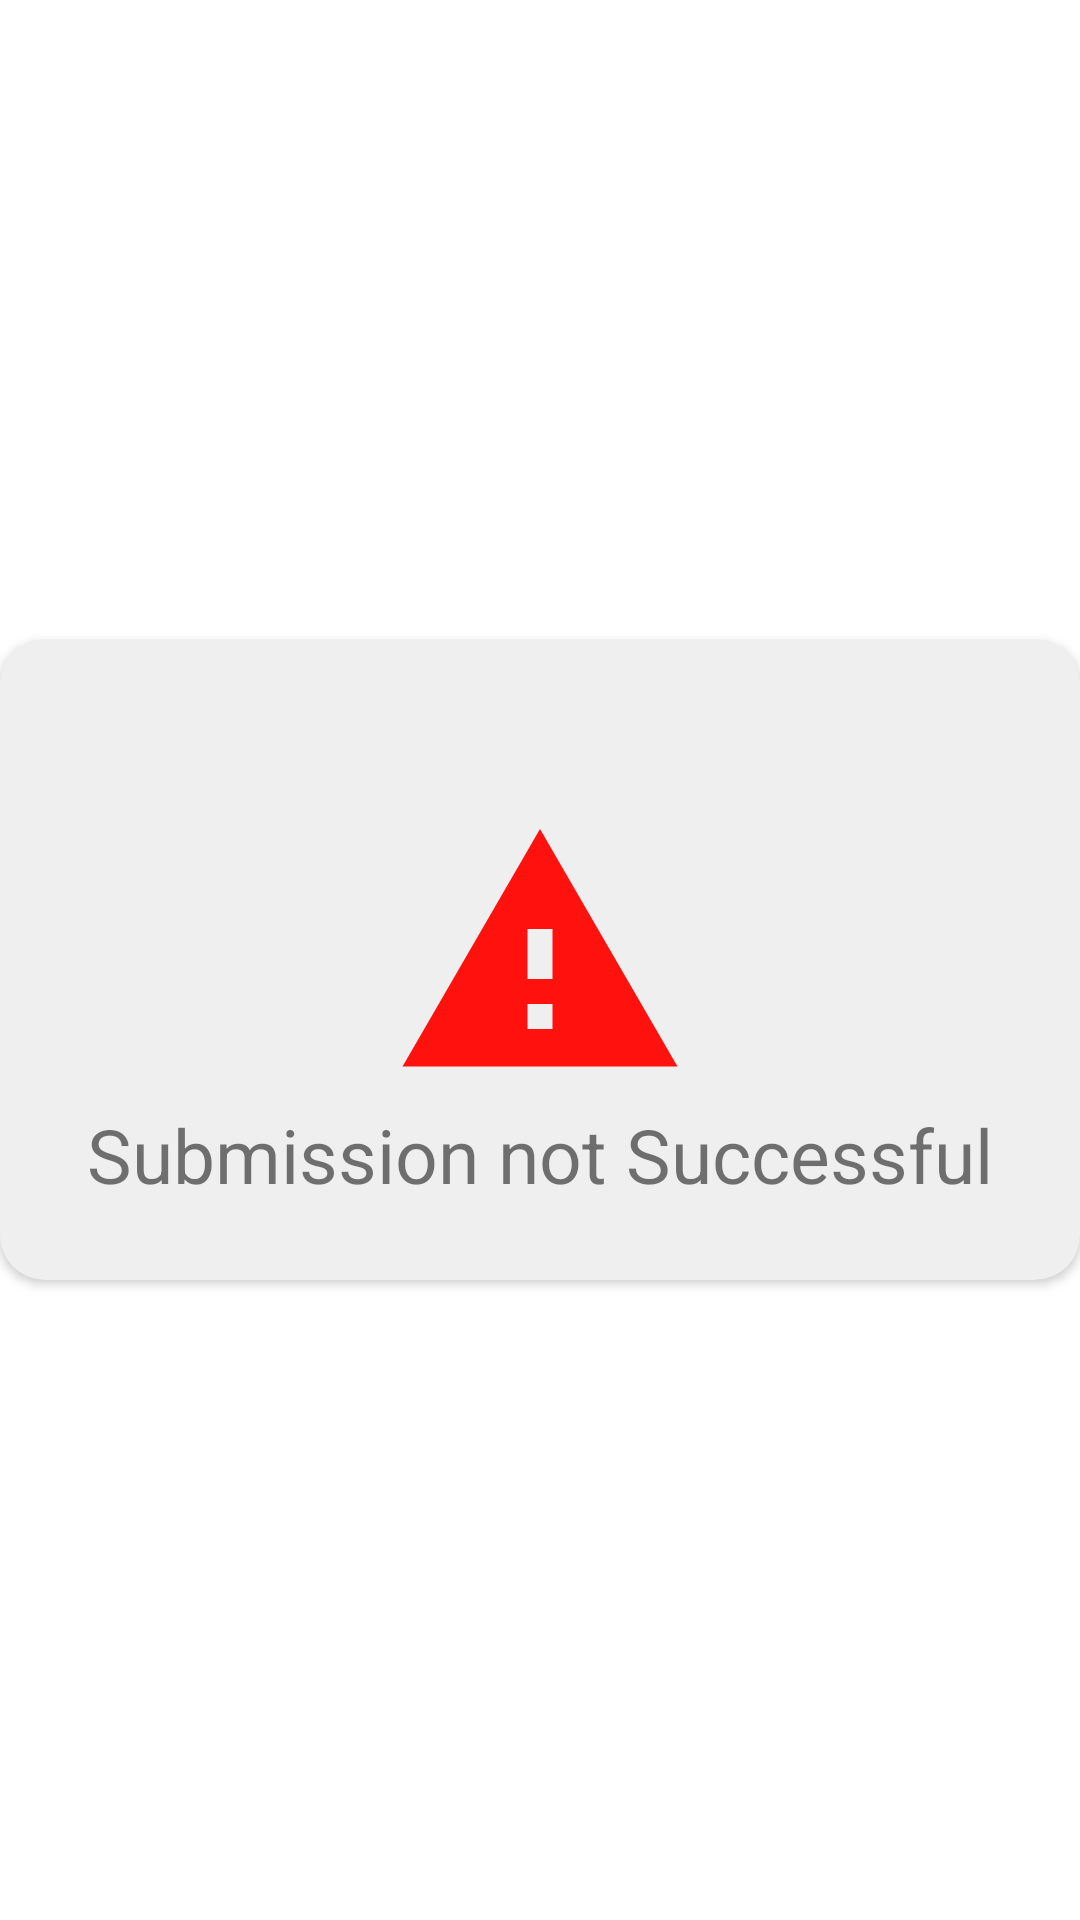

Point at icon controls on the screen. Image size 1080 × 1920, points as (x=x, y=y).
warning: (x=540, y=948)
